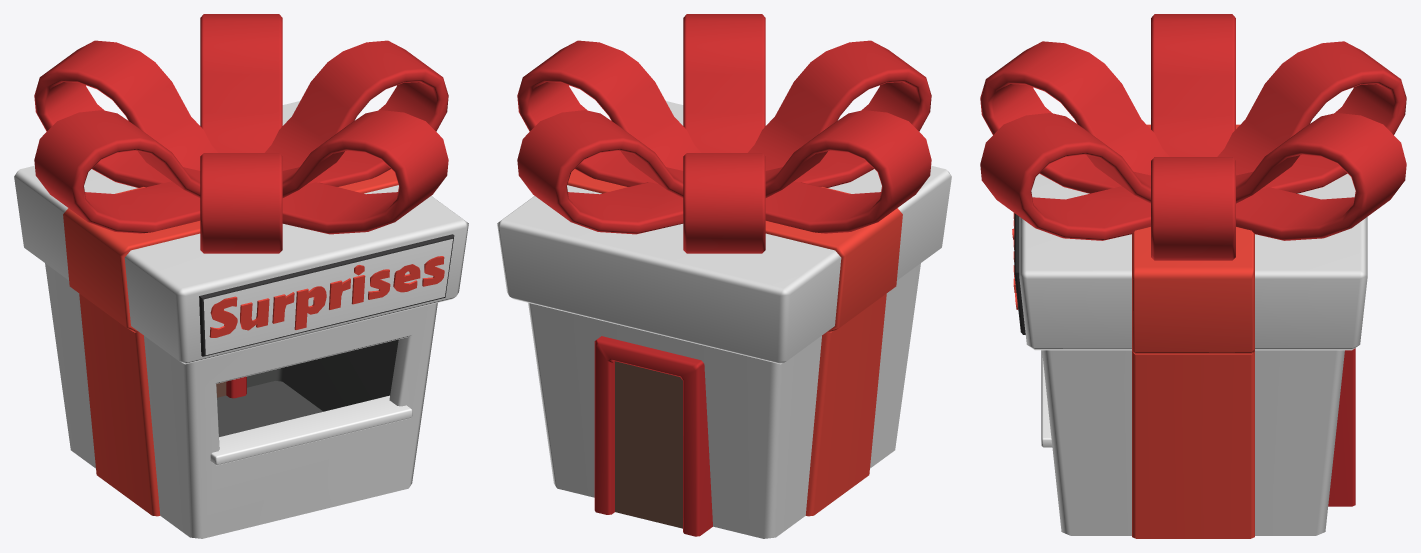
File: stall_001.gltf
3 views of the same model, side by side, from view 1: azimuth 30°, elevation 25°; view 2: azimuth 150°, elevation 25°; view 3: azimuth 270°, elevation 25° (orthographic). The views are drawn at different scales.
Visible parts, largest first — view 1: stall_001; view 2: stall_001; view 3: stall_001.
Boxes of the visible parts, x1=… form: stall_001: x1=14, y1=14, x2=468, y2=538; stall_001: x1=497, y1=14, x2=951, y2=538; stall_001: x1=980, y1=14, x2=1406, y2=538.
Bounding box in the file's own units: 5.21 × 4.97 × 4.97.
2 materials, 1 textured.
